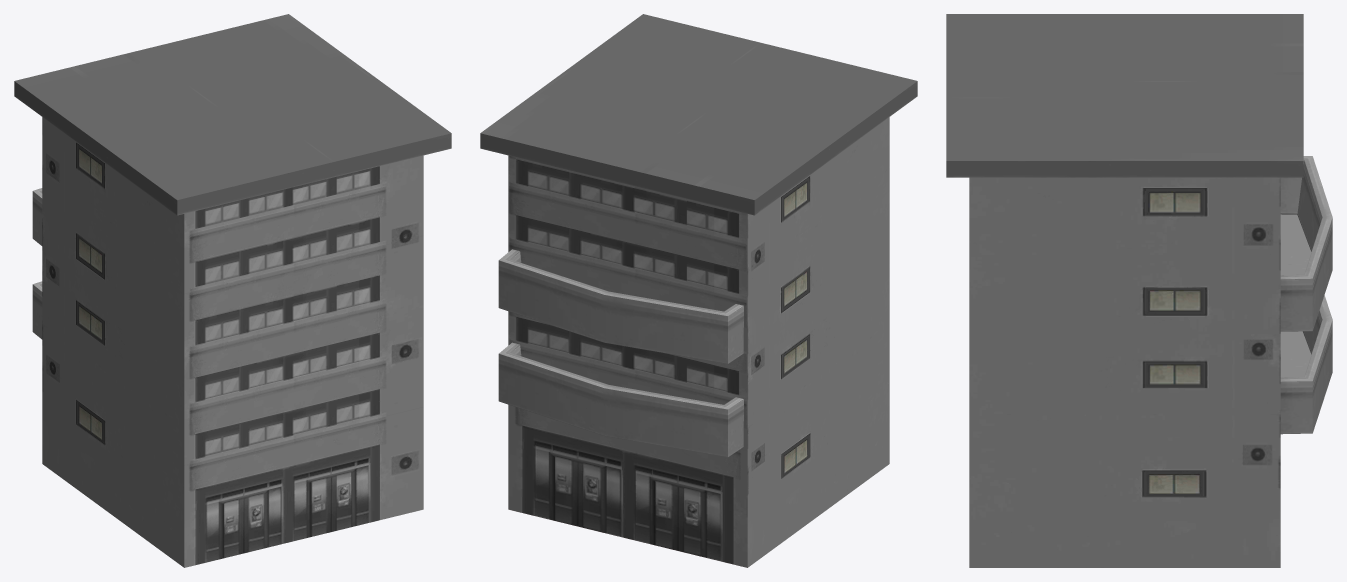
Rendered from 6345_JD02_M_B_Yuanlou01_X (2).fbx.
3 renders of one model, left to right at view 1: azimuth 30°, elevation 25°; view 2: azimuth 150°, elevation 25°; view 3: azimuth 270°, elevation 25°, orthographic. The views are drawn at different scales.
Parts seen in each view (by area): view 1: 6345_JD02_M_B_Yuanlou01_X (2); view 2: 6345_JD02_M_B_Yuanlou01_X (2); view 3: 6345_JD02_M_B_Yuanlou01_X (2).
Boxes of the visible parts, x1=… form: 6345_JD02_M_B_Yuanlou01_X (2): x1=14, y1=14, x2=451, y2=567; 6345_JD02_M_B_Yuanlou01_X (2): x1=480, y1=14, x2=917, y2=567; 6345_JD02_M_B_Yuanlou01_X (2): x1=946, y1=14, x2=1332, y2=567.
Size of the model in its own units: 4.72 by 6.24 by 5.25.
1 material, 1 textured.
